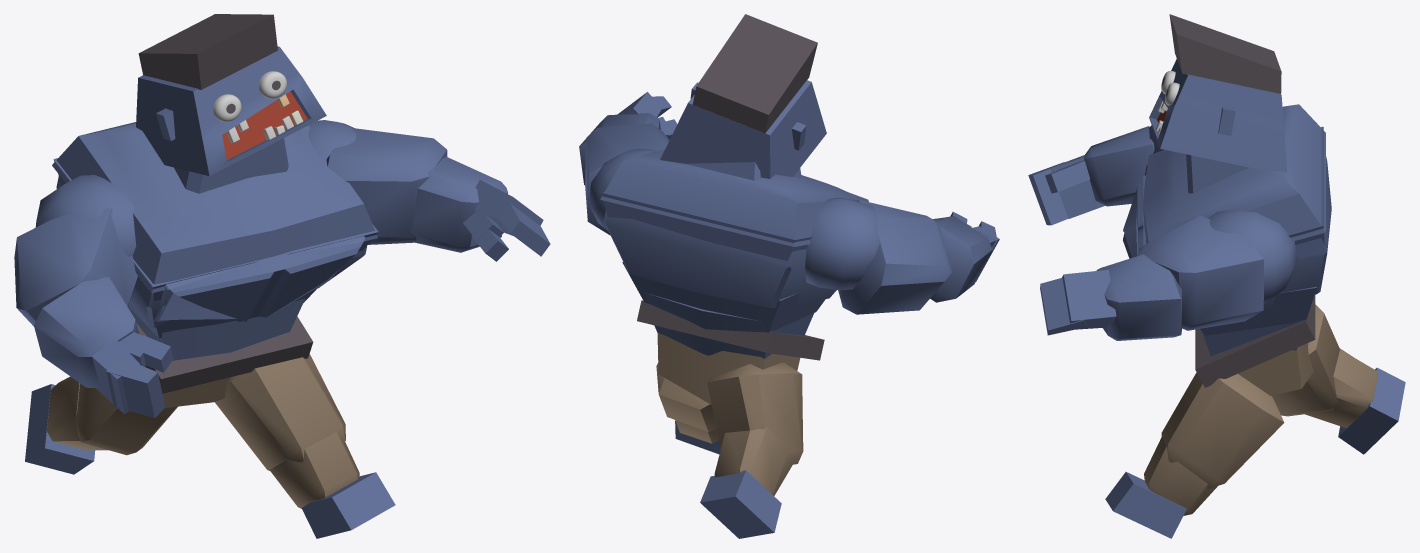
The model's file is 怪物僵尸.fbx.
3 views of the same model, side by side, from view 1: azimuth 30°, elevation 25°; view 2: azimuth 150°, elevation 25°; view 3: azimuth 270°, elevation 25° (orthographic). The views are drawn at different scales.
Visible parts, largest first — view 1: 立方体; view 2: 立方体; view 3: 立方体.
Boxes of the visible parts, x1,y1,x2,y2 form: 立方体: [14, 14, 550, 538]; 立方体: [579, 14, 999, 538]; 立方体: [1028, 14, 1405, 538].
Bounding box in the file's own units: 74.86 × 81.23 × 58.28.
